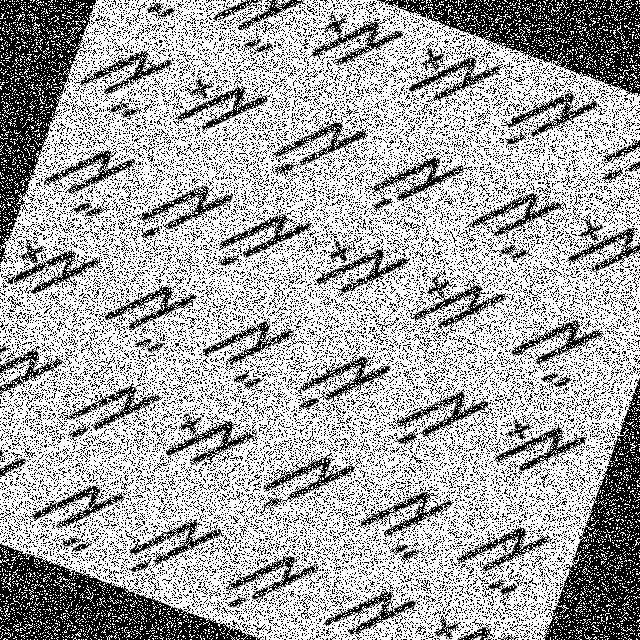wah: (444, 490, 558, 610), (21, 459, 136, 567), (29, 125, 143, 232), (497, 293, 609, 401), (190, 296, 300, 404), (67, 27, 177, 134), (354, 464, 462, 570), (462, 171, 568, 276), (96, 264, 202, 366), (307, 562, 424, 639), (201, 0, 316, 67), (104, 0, 226, 39)
wo: (396, 21, 508, 130), (299, 0, 412, 104), (479, 396, 596, 496), (0, 216, 107, 322), (154, 392, 266, 492), (405, 256, 512, 355), (169, 61, 274, 158), (312, 224, 414, 318), (0, 318, 73, 419), (564, 200, 639, 291), (414, 596, 528, 639), (0, 412, 40, 519)
wu: (356, 123, 474, 243), (122, 150, 239, 262), (252, 427, 365, 541), (284, 328, 398, 436), (56, 357, 169, 465), (124, 482, 232, 594), (262, 97, 372, 204), (497, 70, 602, 178), (221, 528, 325, 636), (388, 365, 494, 470), (214, 193, 321, 294), (587, 95, 639, 213)
